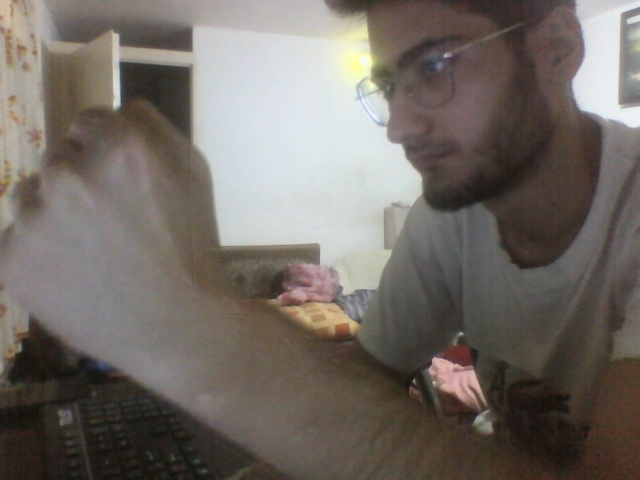attack: (0, 97, 222, 371)
sorat: (355, 2, 584, 210)
